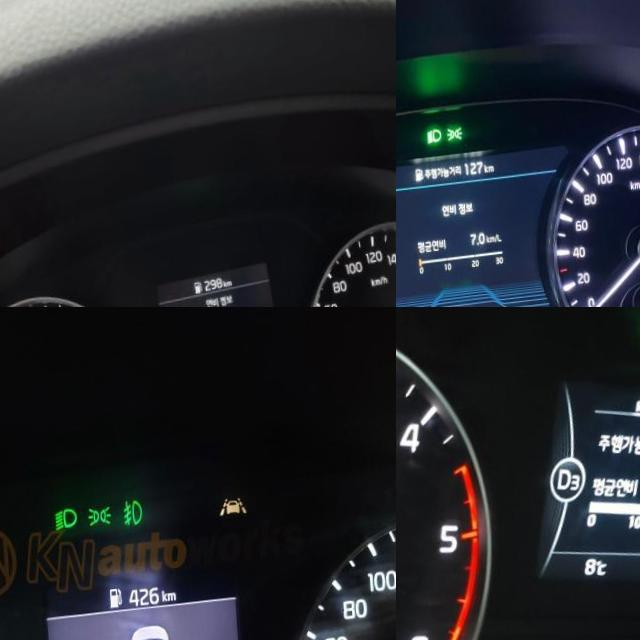FrontFogLight: (117, 505, 139, 534)
LaneCenteringOff: (213, 504, 241, 527)
Low beam: (49, 512, 73, 536), (421, 134, 438, 151)
SideLamp: (83, 510, 107, 534), (442, 133, 459, 150)
